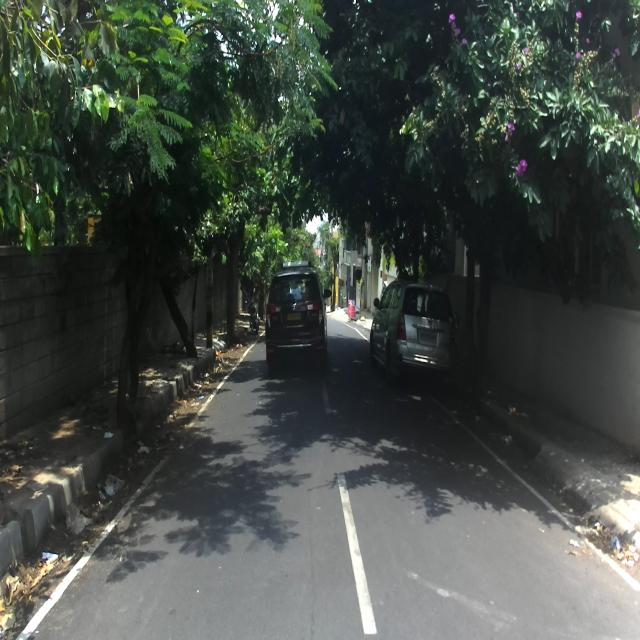car ahead at: (364, 275, 458, 390), (266, 259, 331, 365)
tree ahead at: (114, 234, 153, 422)
